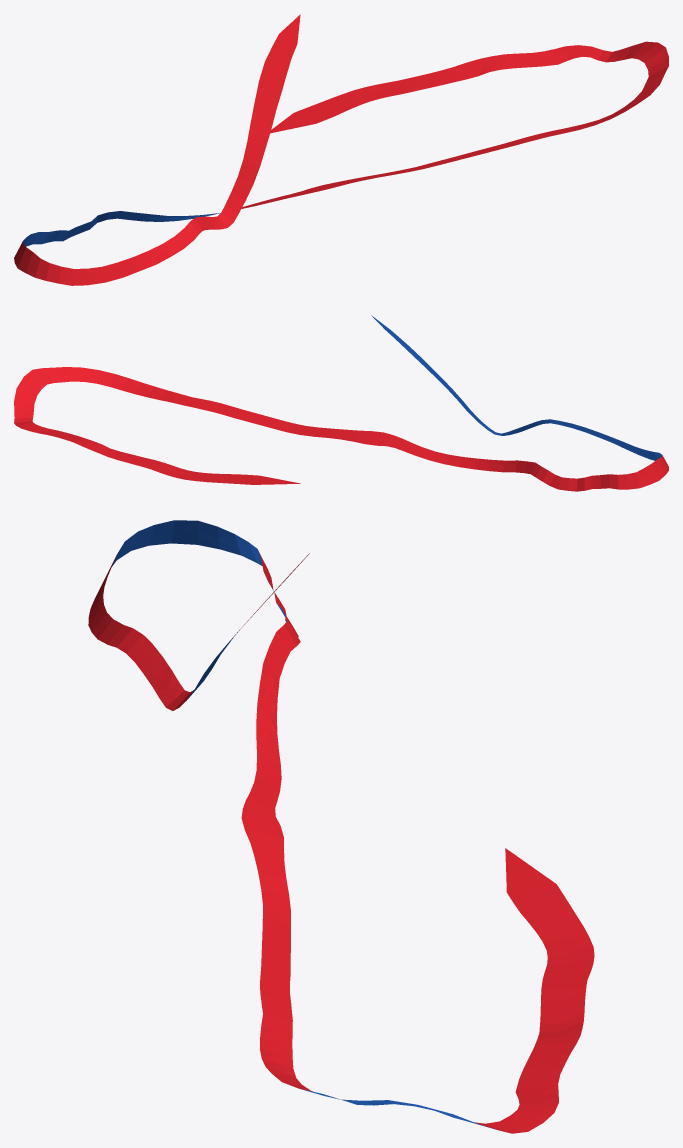
The picture shows the model from 3 angles, top to bottom: view 1: azimuth 30°, elevation 25°; view 2: azimuth 150°, elevation 25°; view 3: azimuth 270°, elevation 25°; orthographic projection. The views are drawn at different scales.
Visible parts, largest first — view 1: 241; view 2: 241; view 3: 241.
Boxes of the visible parts, x1=… form: 241: x1=14, y1=14, x2=668, y2=285; 241: x1=14, y1=315, x2=668, y2=491; 241: x1=88, y1=520, x2=594, y2=1133.
Size of the model in its own units: 2.56 by 0.6047 by 0.9677.
